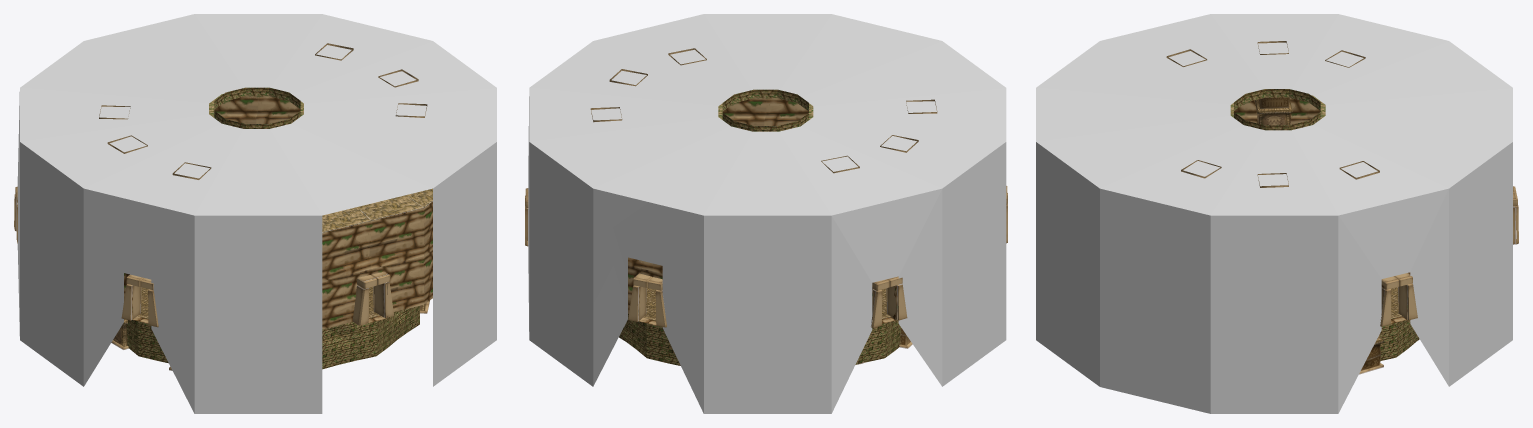
File: HUBCentralCaveAndPillars.fbx
3 views of the same model, side by side, from view 1: azimuth 30°, elevation 25°; view 2: azimuth 150°, elevation 25°; view 3: azimuth 270°, elevation 25° (orthographic).
Parts seen in each view (by area): view 1: Cylinder.007, Cylinder.002, Cylinder.001, Cylinder.006, StoneGate.001, Plane.019, Cylinder.013, StoneGate.004, Cylinder.008, Cylinder.012; view 2: Cylinder.007, Cylinder.009, Cylinder.001, StoneGate.002, StoneGate.003, Cylinder.011, Plane.019, Cylinder.006, Cylinder.012; view 3: Cylinder.007, Plane.019, StoneGate.005, Cylinder.012, Cylinder.005, Cylinder.006.
Boxes of the visible parts, x1,y1,x2,y2 form: Cylinder.007: [17, 14, 496, 413]; Cylinder.002: [269, 119, 423, 369]; Cylinder.001: [289, 111, 432, 355]; Cylinder.006: [214, 87, 300, 123]; StoneGate.001: [352, 271, 394, 325]; Plane.019: [99, 43, 429, 370]; Cylinder.013: [124, 119, 245, 363]; StoneGate.004: [121, 274, 158, 327]; Cylinder.008: [216, 87, 299, 123]; Cylinder.012: [126, 111, 225, 355]; Cylinder.007: [528, 14, 1006, 413]; Cylinder.009: [628, 121, 754, 365]; Cylinder.001: [722, 89, 808, 125]; StoneGate.002: [628, 273, 666, 327]; StoneGate.003: [871, 276, 907, 327]; Cylinder.011: [777, 121, 897, 364]; Plane.019: [590, 48, 937, 364]; Cylinder.006: [619, 113, 734, 357]; Cylinder.012: [797, 113, 901, 357]; Cylinder.007: [1036, 14, 1512, 413]; Plane.019: [1166, 41, 1384, 374]; StoneGate.005: [1380, 273, 1417, 326]; Cylinder.012: [1234, 89, 1320, 124]; Cylinder.005: [1289, 120, 1410, 360]; Cylinder.006: [1309, 112, 1419, 357].
Bounding box in the file's own units: 12063 × 5756 × 12215.
